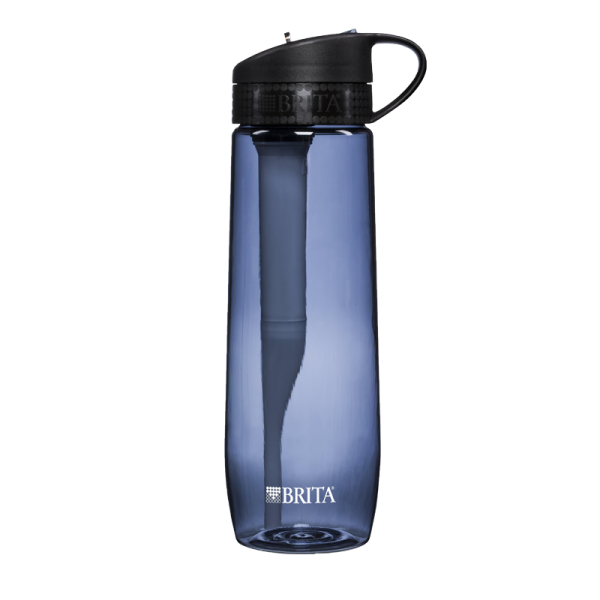Rec_Plastic: (216, 14, 420, 553)
